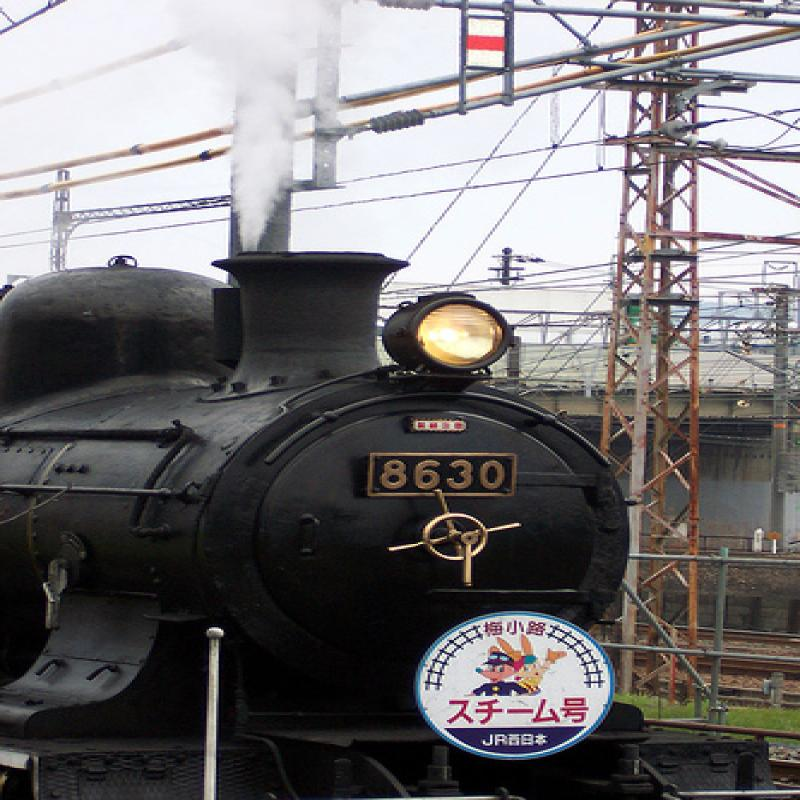train: (3, 252, 800, 800)
